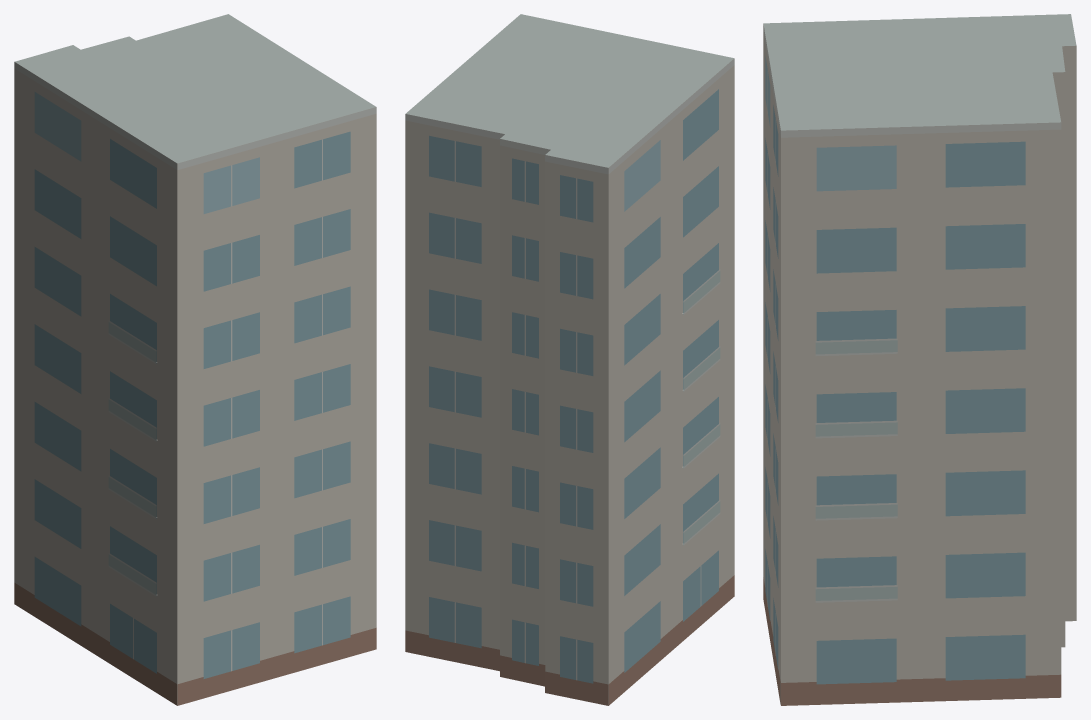
The model's file is survey-upis-32769293.glb.
The picture shows the model from 3 angles, left to right: view 1: azimuth 30°, elevation 25°; view 2: azimuth 150°, elevation 25°; view 3: azimuth 270°, elevation 25°; orthographic projection. The views are drawn at different scales.
Visible parts, largest first — view 1: survey-upis-32769293.tmp; view 2: survey-upis-32769293.tmp; view 3: survey-upis-32769293.tmp.
Part boxes in pixels (bbox=[...]): survey-upis-32769293.tmp: bbox=[14, 14, 376, 705]; survey-upis-32769293.tmp: bbox=[405, 14, 734, 705]; survey-upis-32769293.tmp: bbox=[763, 14, 1076, 705].
Size of the model in its own units: 8.62 by 19.8 by 9.78.
